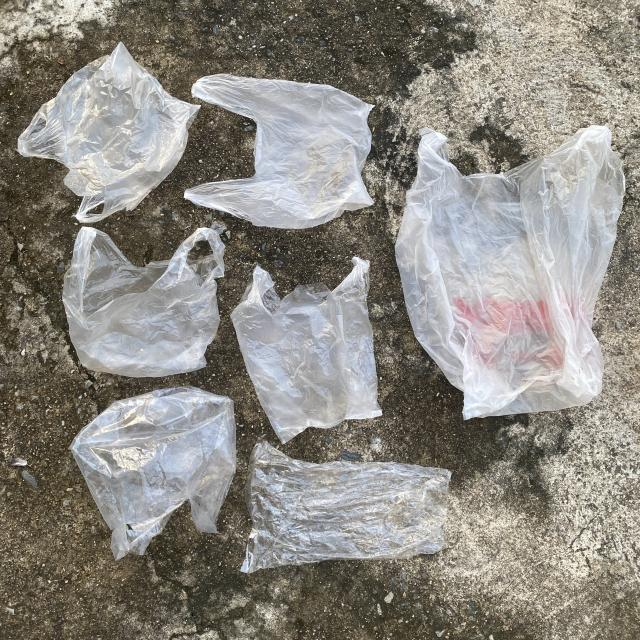Single-layer Plastic: (395, 126, 625, 419), (18, 42, 200, 222), (185, 74, 372, 229), (71, 386, 235, 560), (241, 440, 451, 572), (231, 258, 381, 442), (62, 225, 225, 378)
